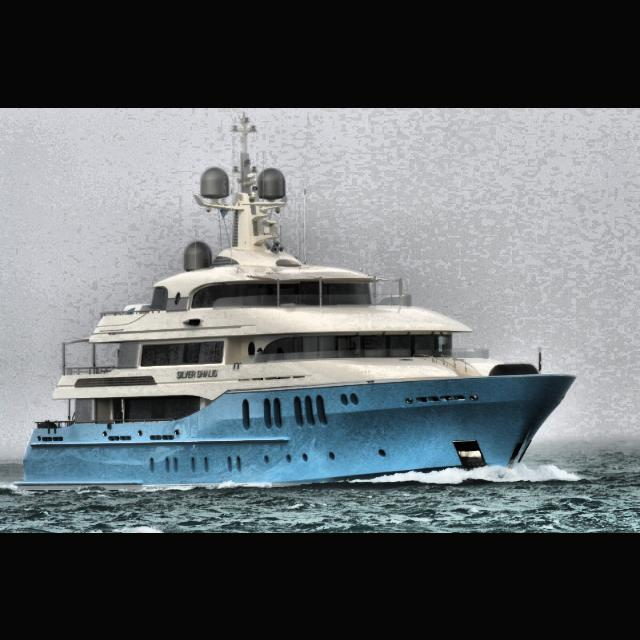yacht: (13, 163, 577, 493)
